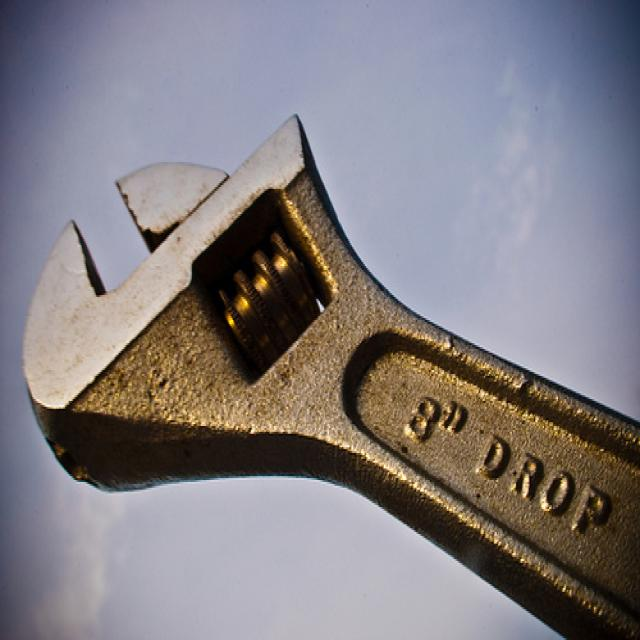wrench: (5, 77, 640, 640)
